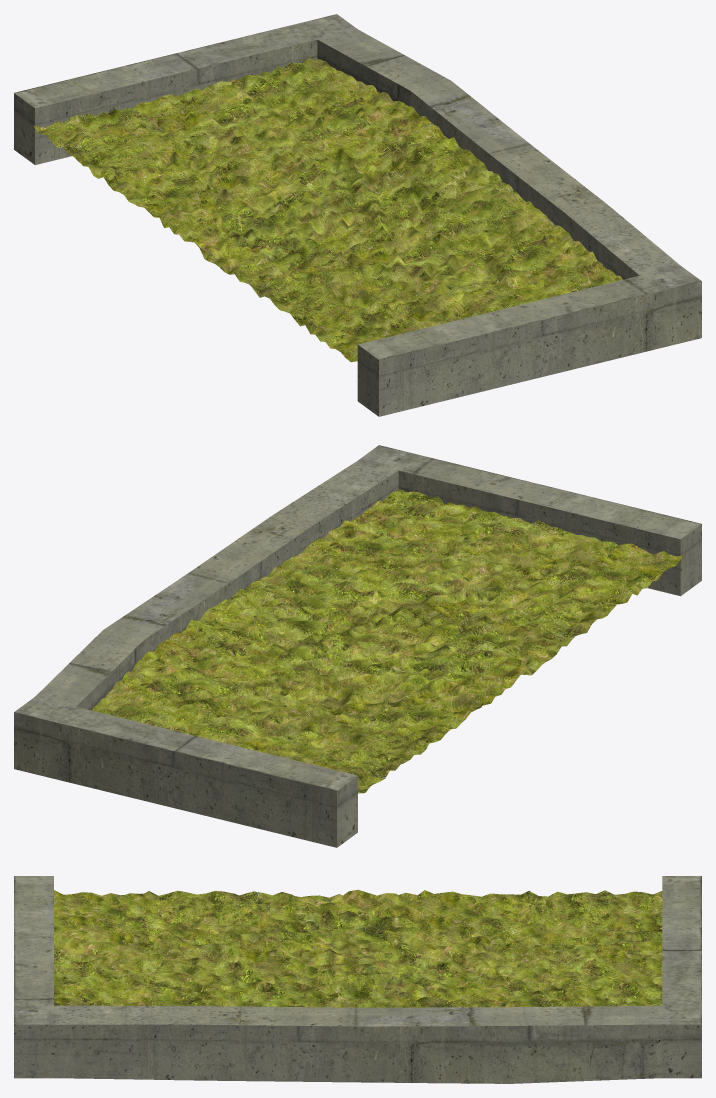
File: SM_Prison_Block01.fbx
3 renders of one model, top to bottom at view 1: azimuth 30°, elevation 25°; view 2: azimuth 150°, elevation 25°; view 3: azimuth 270°, elevation 25°, orthographic. The views are drawn at different scales.
Parts seen in each view (by area): view 1: SM_Prison_Block01; view 2: SM_Prison_Block01; view 3: SM_Prison_Block01.
Part boxes in pixels (x1=…): SM_Prison_Block01: x1=14, y1=14, x2=701, y2=416; SM_Prison_Block01: x1=14, y1=445, x2=701, y2=847; SM_Prison_Block01: x1=14, y1=876, x2=701, y2=1083.
Size of the model in its own units: 1551 by 270 by 2904.
